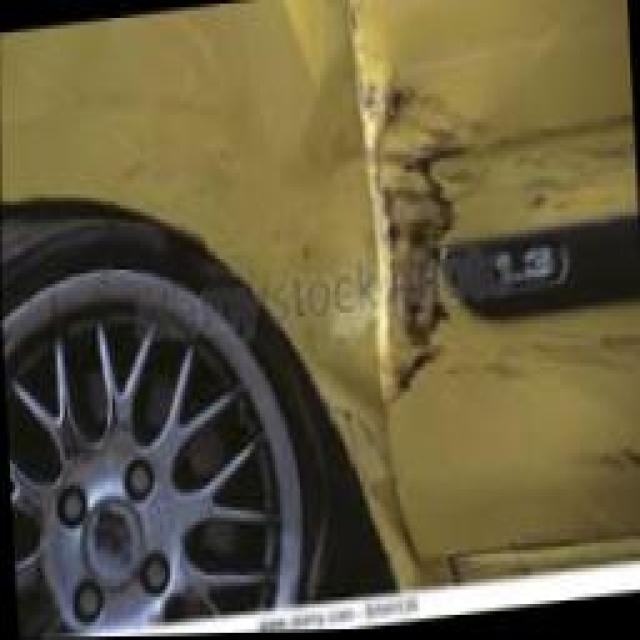Door: (175, 0, 640, 508)
